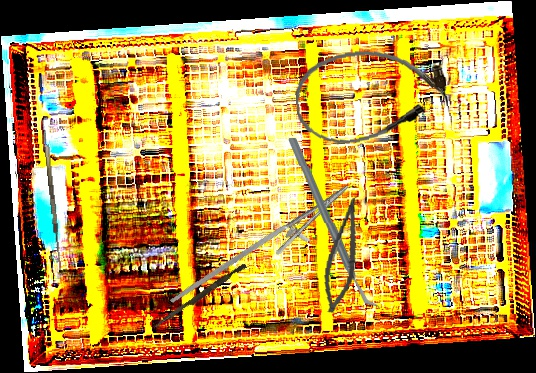Cannula: (291, 42, 452, 149)
Chopper: (287, 136, 380, 310)
Hook Surgical: (44, 143, 69, 275)
Micro Scissor: (319, 193, 365, 316)
Needle Holder: (169, 165, 360, 335)
Pusher: (154, 260, 247, 332)
